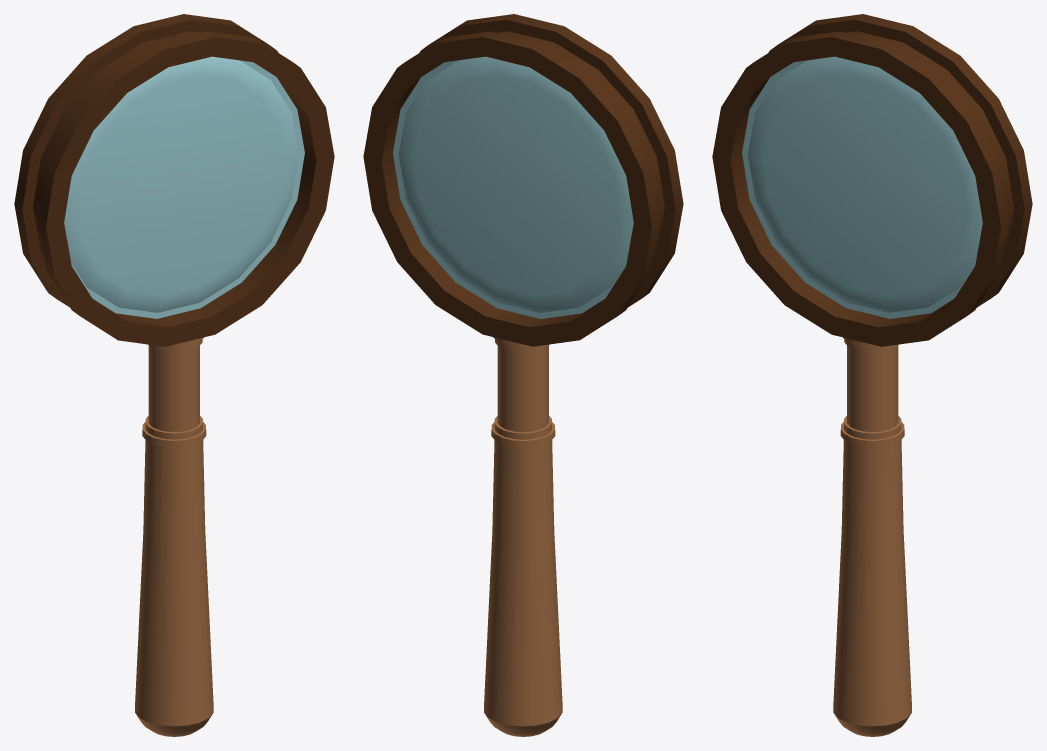
The model's file is 放大镜.fbx.
3 views of the same model, side by side, from view 1: azimuth 30°, elevation 25°; view 2: azimuth 150°, elevation 25°; view 3: azimuth 330°, elevation 25° (orthographic).
Visible parts, largest first — view 1: 鏀惧ぇ闀滄焺, 鏀惧ぇ闀滅墖; view 2: 鏀惧ぇ闀滄焺, 鏀惧ぇ闀滅墖; view 3: 鏀惧ぇ闀滄焺, 鏀惧ぇ闀滅墖.
Part boxes in pixels (left/top/right/bottom): 鏀惧ぇ闀滄焺: left=14, top=14, right=334, bottom=736; 鏀惧ぇ闀滅墖: left=64, top=56, right=304, bottom=318; 鏀惧ぇ闀滄焺: left=363, top=14, right=683, bottom=736; 鏀惧ぇ闀滅墖: left=393, top=56, right=633, bottom=318; 鏀惧ぇ闀滄焺: left=712, top=14, right=1032, bottom=736; 鏀惧ぇ闀滅墖: left=742, top=56, right=982, bottom=318.
Size of the model in its own units: 10 by 23.09 by 2.36.
